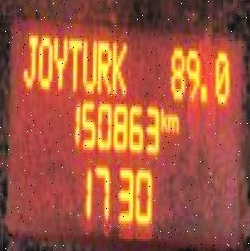-: (199, 81, 206, 104)
0: (133, 165, 152, 226), (213, 45, 230, 104), (95, 99, 111, 150)
1: (82, 162, 92, 218), (70, 99, 79, 147)
3: (115, 162, 132, 223), (144, 104, 159, 155)
5: (80, 96, 95, 150)
6: (127, 99, 143, 152)
7: (93, 160, 110, 223)
8: (168, 43, 184, 101), (111, 99, 126, 150)
9: (185, 43, 199, 101)
X: (110, 35, 126, 96), (51, 30, 66, 91), (20, 30, 36, 86), (95, 35, 110, 94), (66, 33, 81, 91), (80, 33, 95, 91), (38, 30, 52, 91), (166, 111, 179, 132), (159, 101, 166, 132)
